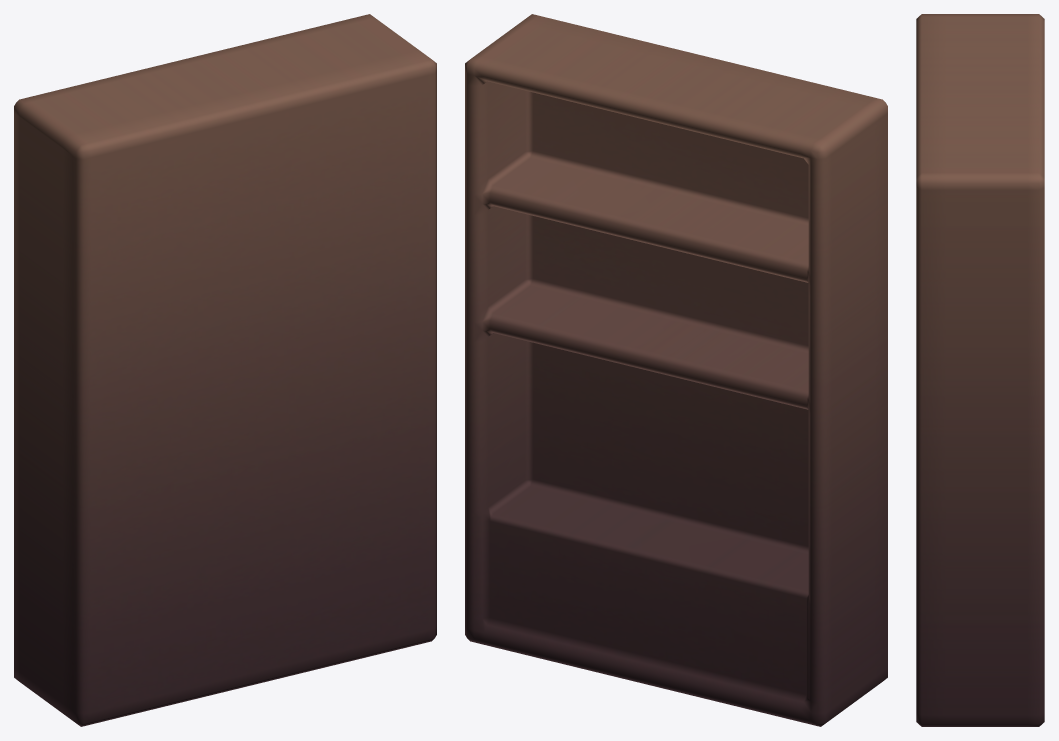
File: EstanteSafada.fbx
3 views of the same model, side by side, from view 1: azimuth 30°, elevation 25°; view 2: azimuth 150°, elevation 25°; view 3: azimuth 270°, elevation 25° (orthographic). The views are drawn at different scales.
Visible parts, largest first — view 1: Cube.001; view 2: Cube.001; view 3: Cube.001.
Part boxes in pixels (box(x1,y1,x2,y2)): Cube.001: box(14, 14, 436, 726); Cube.001: box(465, 14, 887, 726); Cube.001: box(916, 14, 1044, 726).
Size of the model in its own units: 154 by 238 by 50.28.
